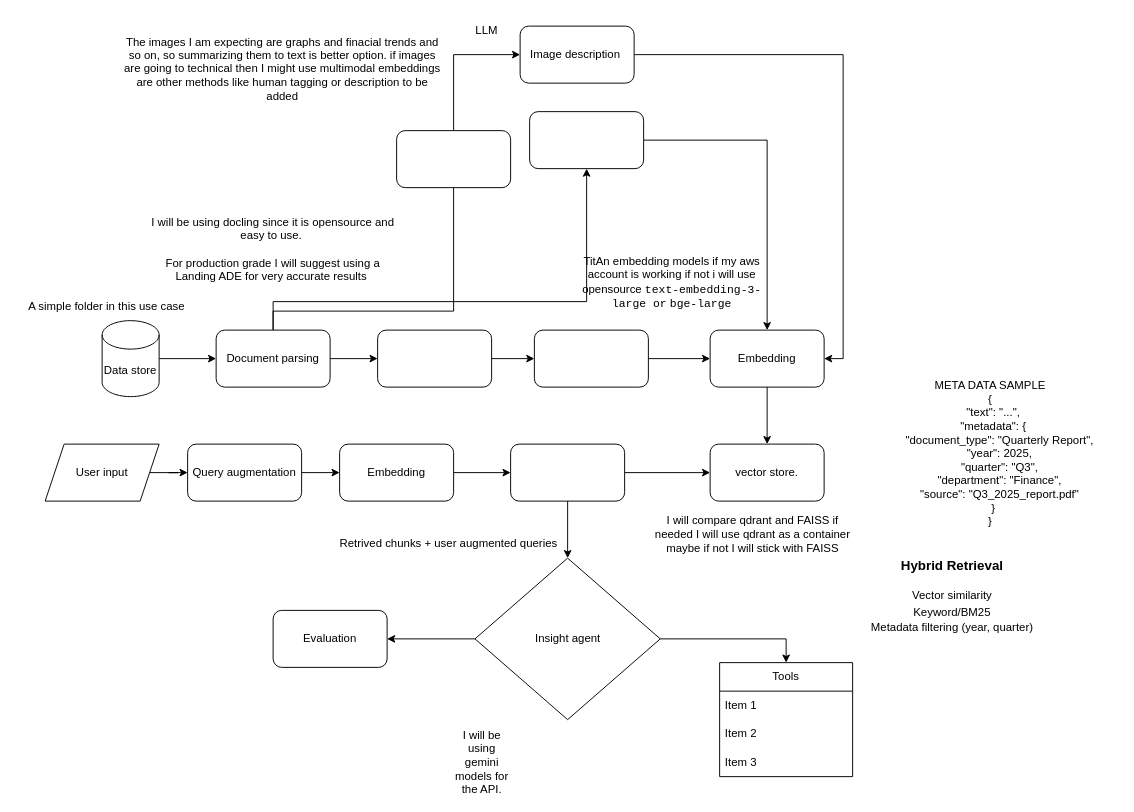
This 1134x812 diagram has some shape labels left out. The centre of each missing label's shape, as x and y in pixels:
"Chunking" belongs at (590,358).
"Images" belongs at (453,159).
"pre-processing and cleaning" belongs at (434,358).
"Similarity matching" belongs at (567,472).
"Tables" belongs at (586,140).
